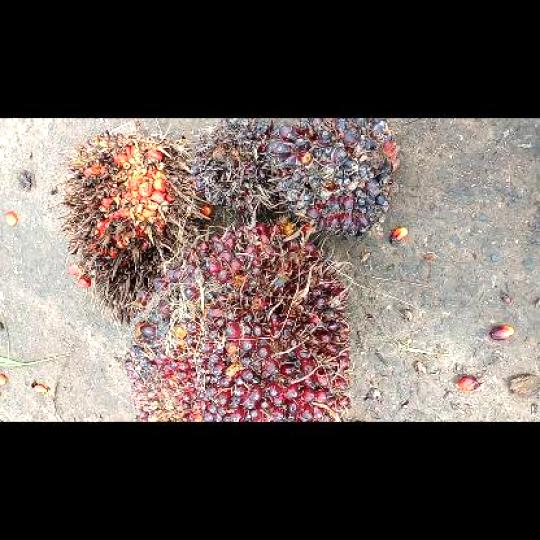masak: (121, 216, 357, 420)
terlalu masak: (54, 118, 198, 331)
